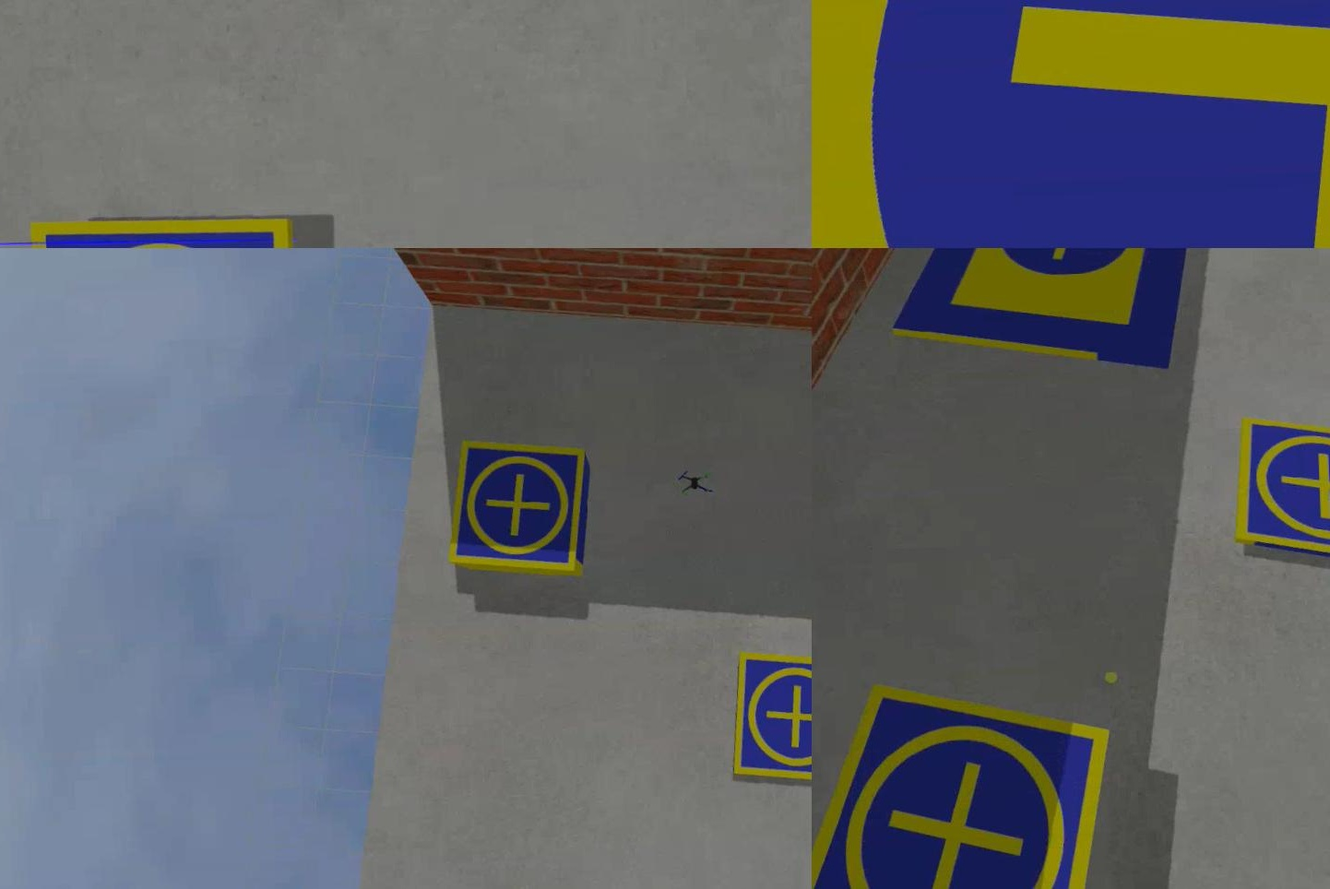large_base: (884, 249, 1203, 373)
small_base: (810, 1, 1328, 249), (810, 677, 1114, 889), (445, 435, 590, 576), (1225, 417, 1328, 579), (727, 646, 810, 787)
